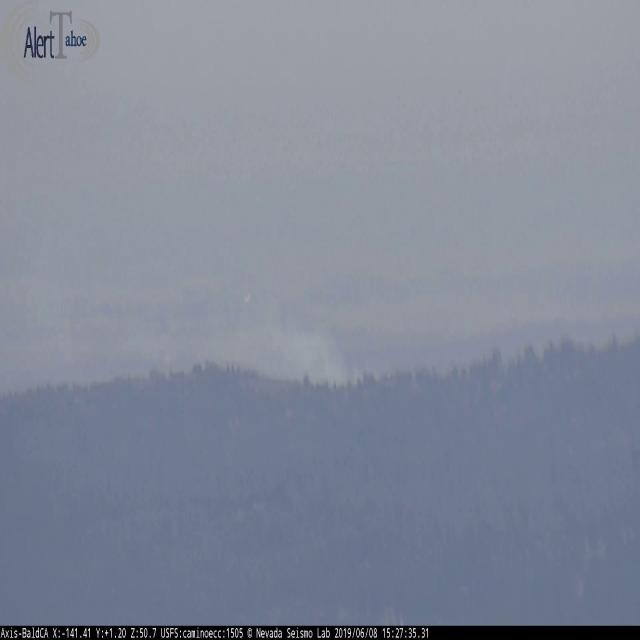smoke: (138, 304, 367, 396)
